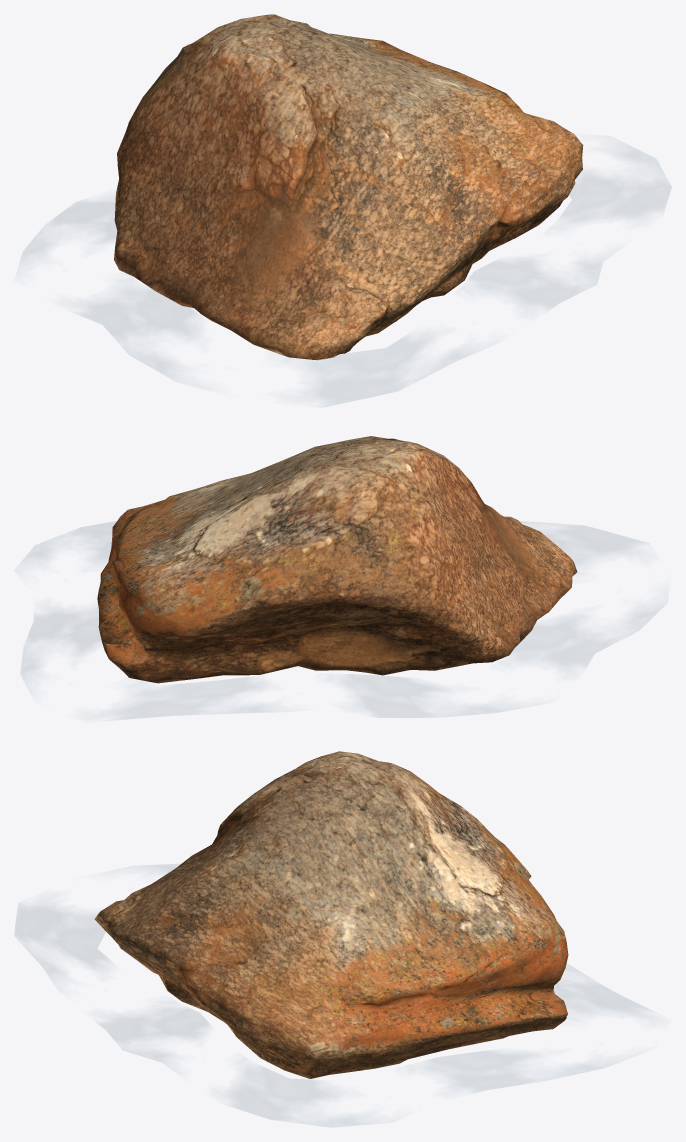
The model's file is mm6_deco_surfrock_a.glb.
3 renders of one model, top to bottom at view 1: azimuth 30°, elevation 25°; view 2: azimuth 150°, elevation 25°; view 3: azimuth 270°, elevation 25°, orthographic. The views are drawn at different scales.
Visible parts, largest first — view 1: SurfRockA; view 2: SurfRockA; view 3: SurfRockA.
Part boxes in pixels (x1,y1,x2,y2): SurfRockA: (15, 14, 671, 407); SurfRockA: (14, 436, 669, 721); SurfRockA: (14, 751, 668, 1127).
Bounding box in the file's own units: 3.4 × 1.15 × 3.5.
Materials: 2 (2 with a texture image).
